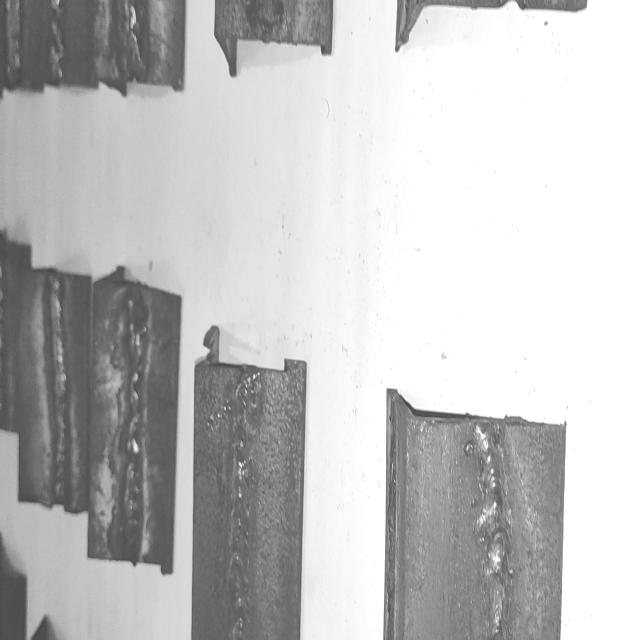Good Weld: (475, 426, 515, 640), (225, 371, 254, 640), (123, 313, 147, 557), (47, 285, 69, 501)
